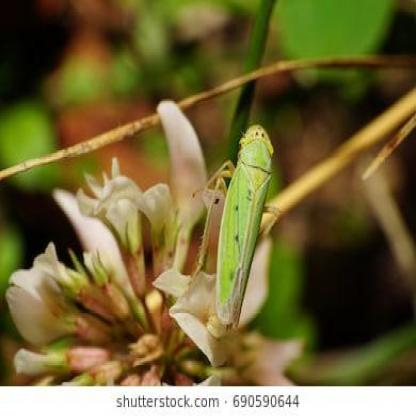Green-Leafhopper: (200, 124, 284, 333)
